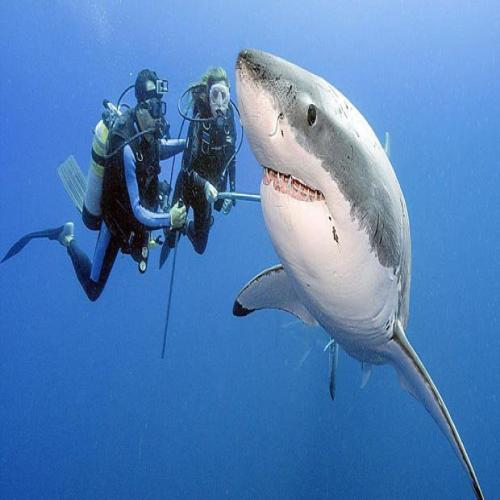shark-endangered: (234, 34, 424, 391)
